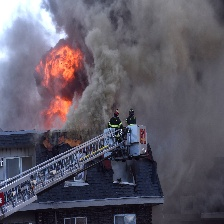fire: (35, 45, 81, 126)
smoke: (49, 1, 222, 204), (1, 14, 54, 129)
